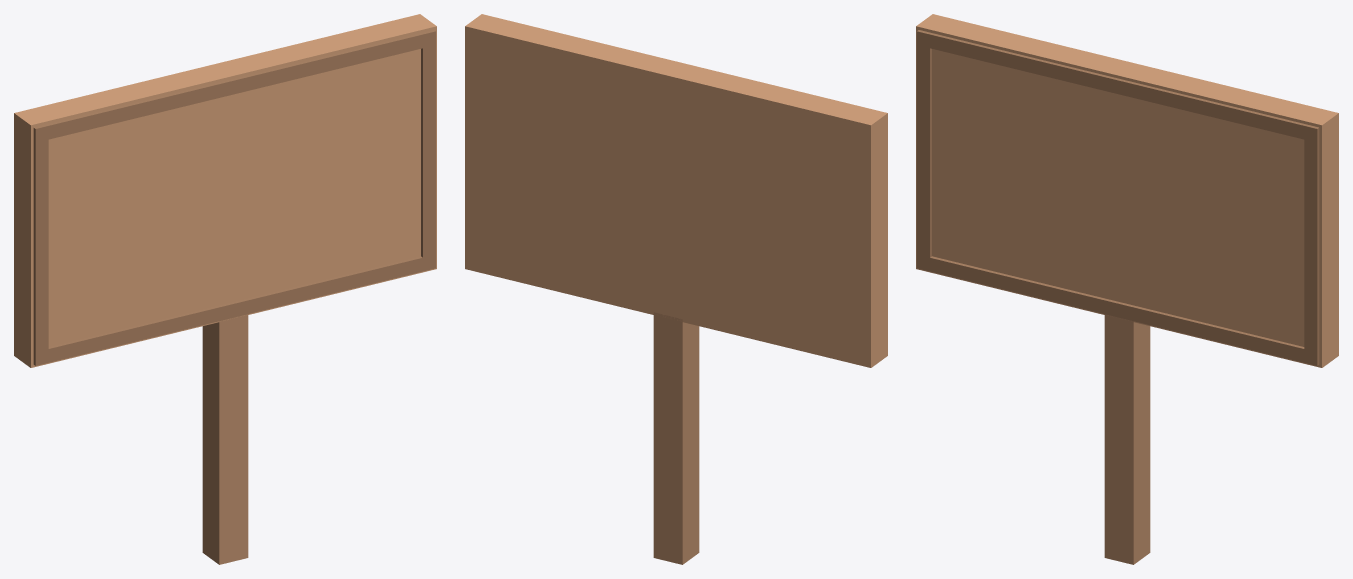
Rendered from sign_acacia_stand.gltf.
3 views of the same model, side by side, from view 1: azimuth 30°, elevation 25°; view 2: azimuth 150°, elevation 25°; view 3: azimuth 330°, elevation 25° (orthographic).
Visible parts, largest first — view 1: sign_acacia_stand; view 2: sign_acacia_stand; view 3: sign_acacia_stand.
Part boxes in pixels (x1=…): sign_acacia_stand: x1=14, y1=14, x2=436, y2=564; sign_acacia_stand: x1=465, y1=14, x2=887, y2=564; sign_acacia_stand: x1=916, y1=14, x2=1338, y2=564.
Size of the model in its own units: 0.875 by 1 by 0.07.
